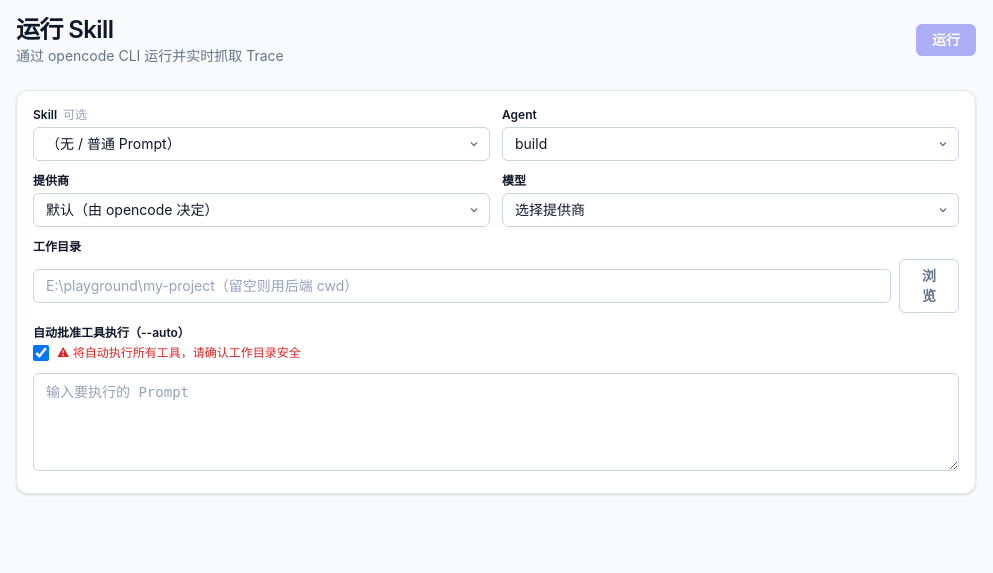
RunPage › shows an error message on an error frame
This screenshot has width=993, height=573.
Type "hi" into the text box with placeholder "输入要执行的 Prompt".
click(496, 422); type("hi")  # box 33,373 -> 959,471
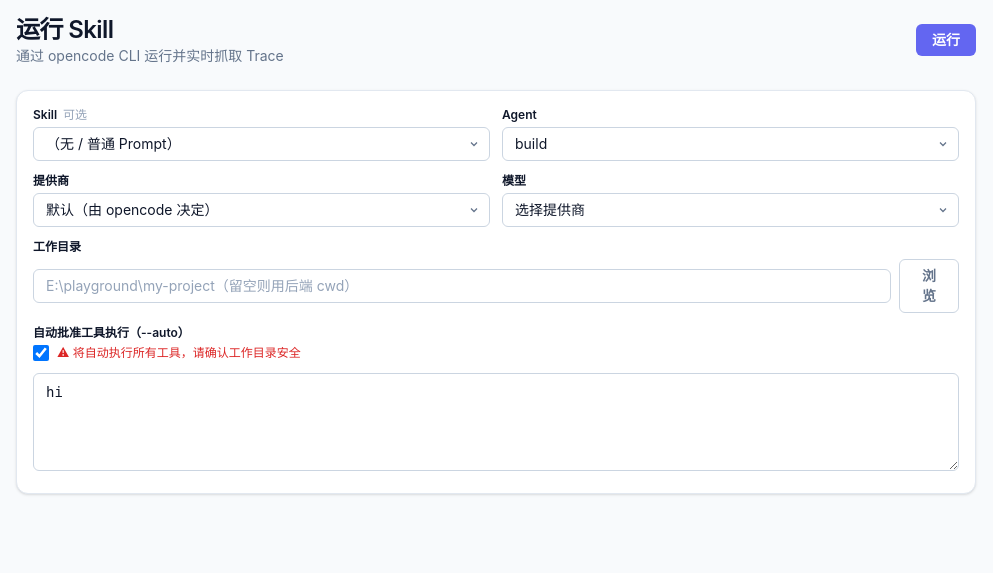
Click the button "运行".
click(946, 40)  # box 916,24 -> 976,56
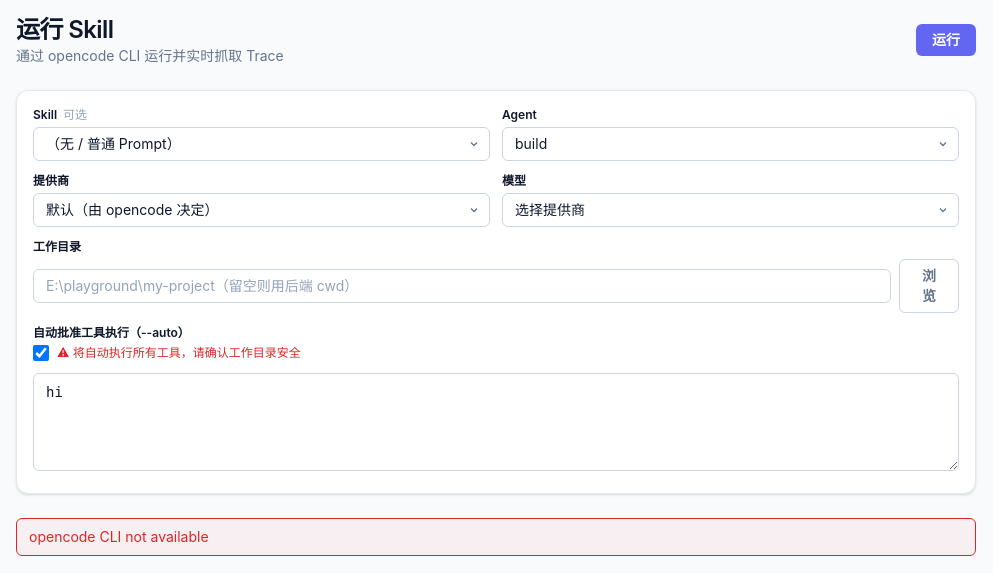
expect the text "opencode CLI not available" is shown: met, box 16,518 -> 976,556
